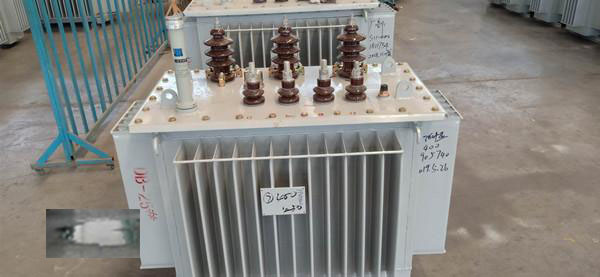oil: (48, 210, 142, 255)
